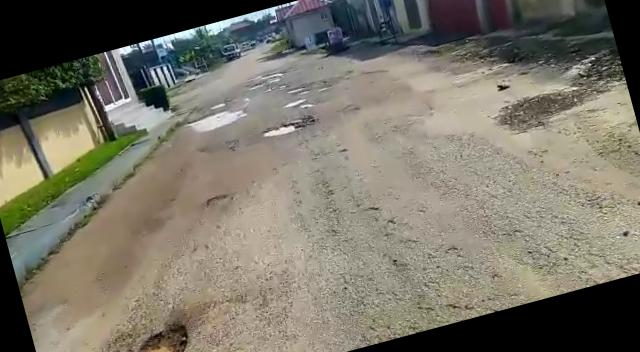pothole: (126, 320, 195, 352), (184, 104, 245, 134), (259, 116, 307, 140), (282, 96, 308, 110)
